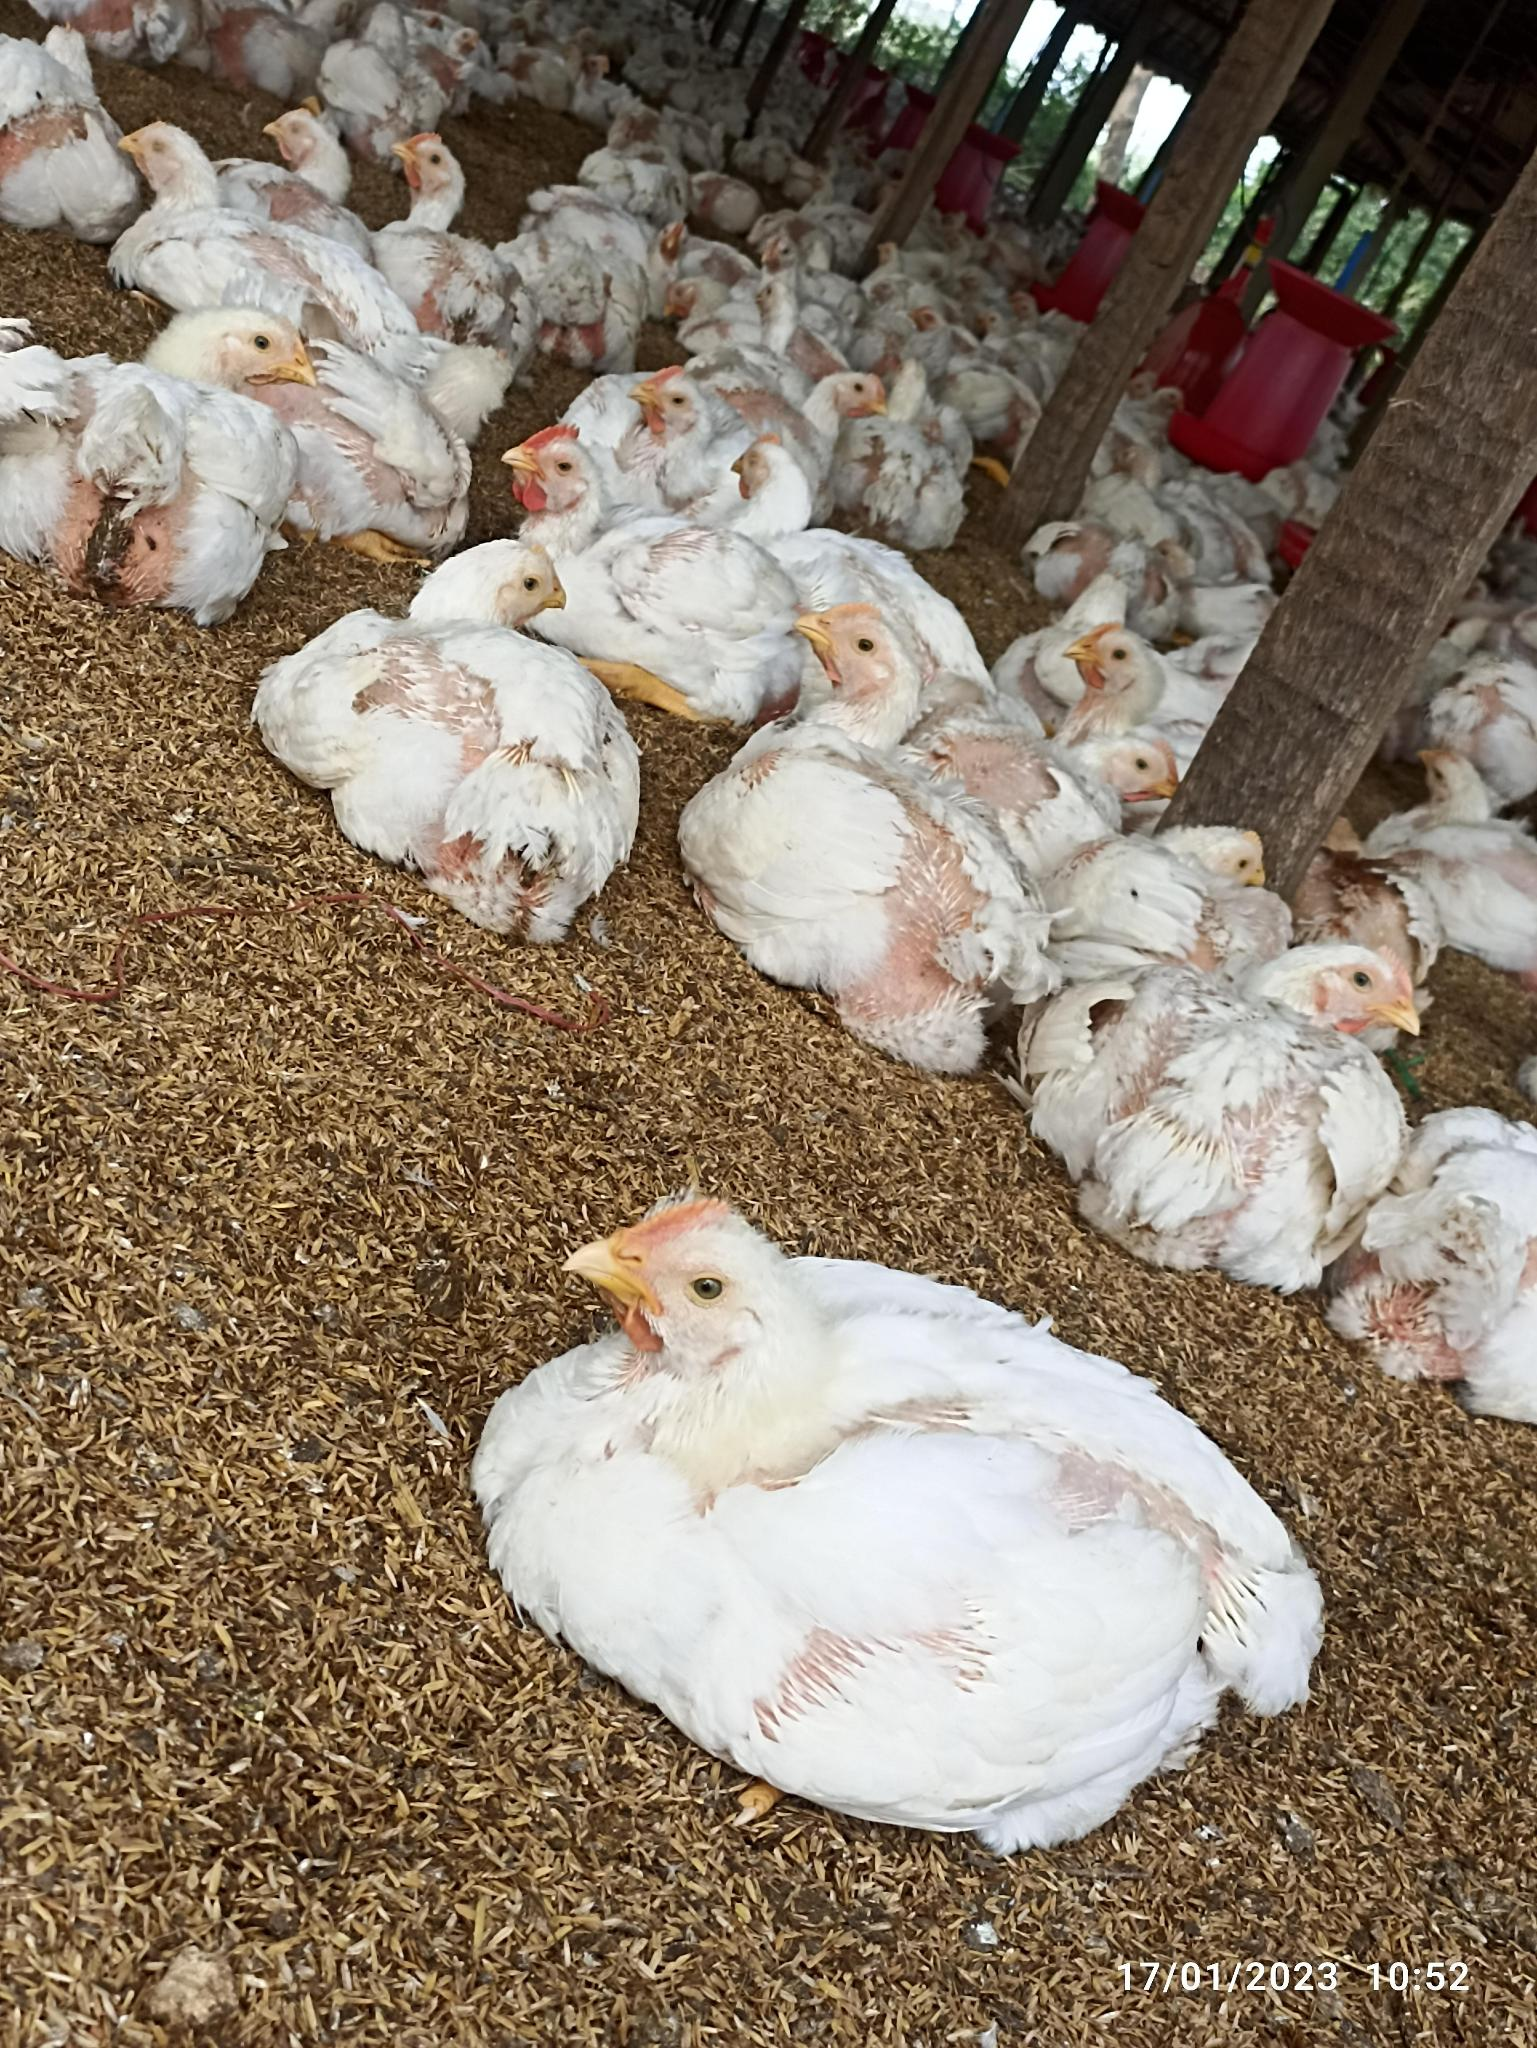Pollos: (505, 1189, 1277, 1829), (279, 541, 634, 925), (715, 600, 986, 1065), (1037, 941, 1421, 1231), (2, 307, 313, 623), (283, 342, 526, 512), (98, 118, 323, 292), (387, 121, 544, 331), (634, 358, 822, 526), (509, 423, 609, 557)
